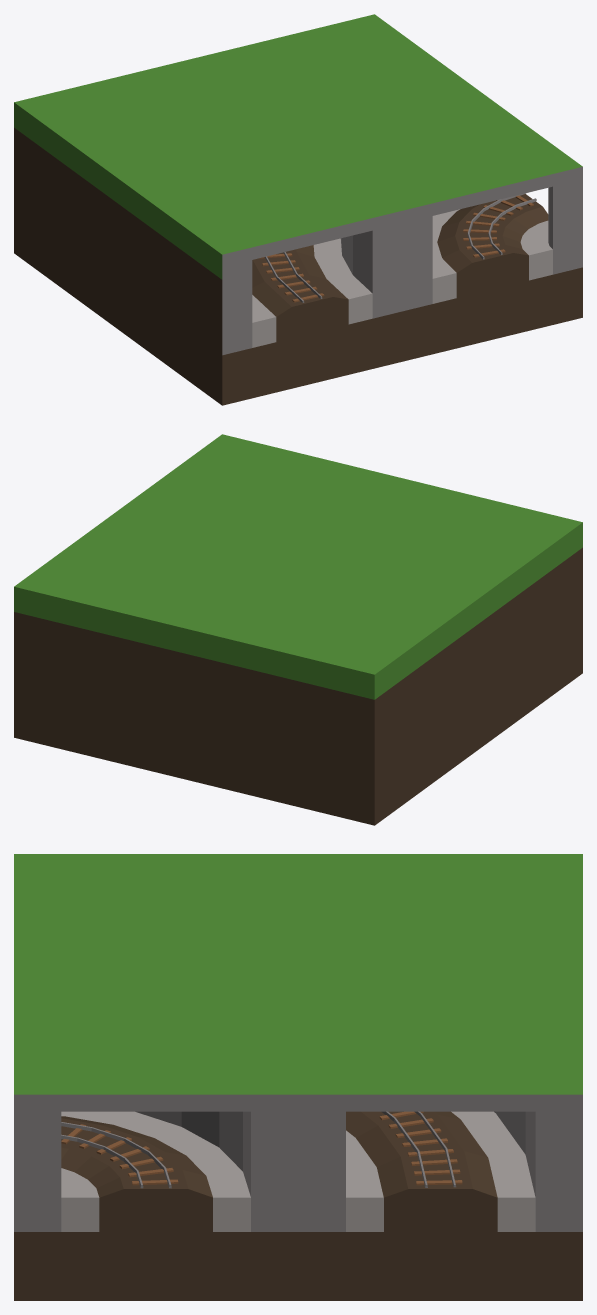
File: tiles_tile-rail-tunnel-curve-double.fbx
3 renders of one model, top to bottom at view 1: azimuth 30°, elevation 25°; view 2: azimuth 150°, elevation 25°; view 3: azimuth 270°, elevation 25°, orthographic. The views are drawn at different scales.
Visible parts, largest first — view 1: tiles_tile_rail_tunnel_curve_double; view 2: tiles_tile_rail_tunnel_curve_double; view 3: tiles_tile_rail_tunnel_curve_double.
Boxes of the visible parts, x1,y1,x2,y2 form: tiles_tile_rail_tunnel_curve_double: [14, 14, 582, 405]; tiles_tile_rail_tunnel_curve_double: [14, 434, 582, 825]; tiles_tile_rail_tunnel_curve_double: [14, 854, 582, 1300].
Size of the model in its own units: 200 by 80 by 200.
